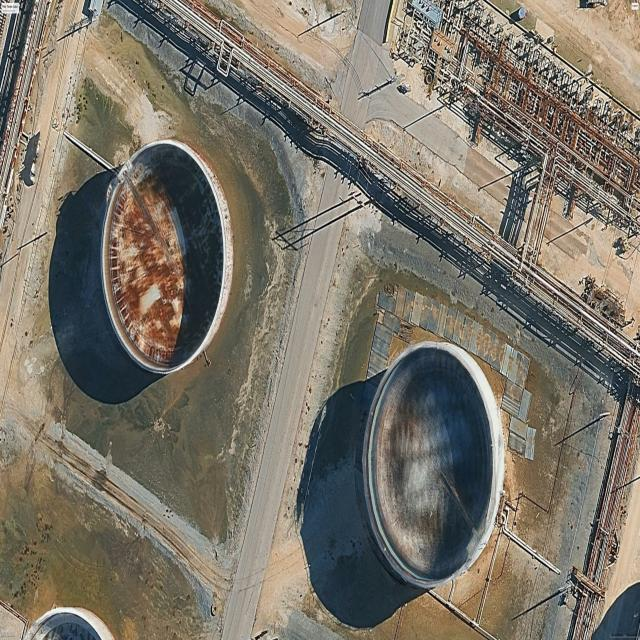Oil Rafinery: (362, 342, 504, 588), (100, 140, 233, 374)
